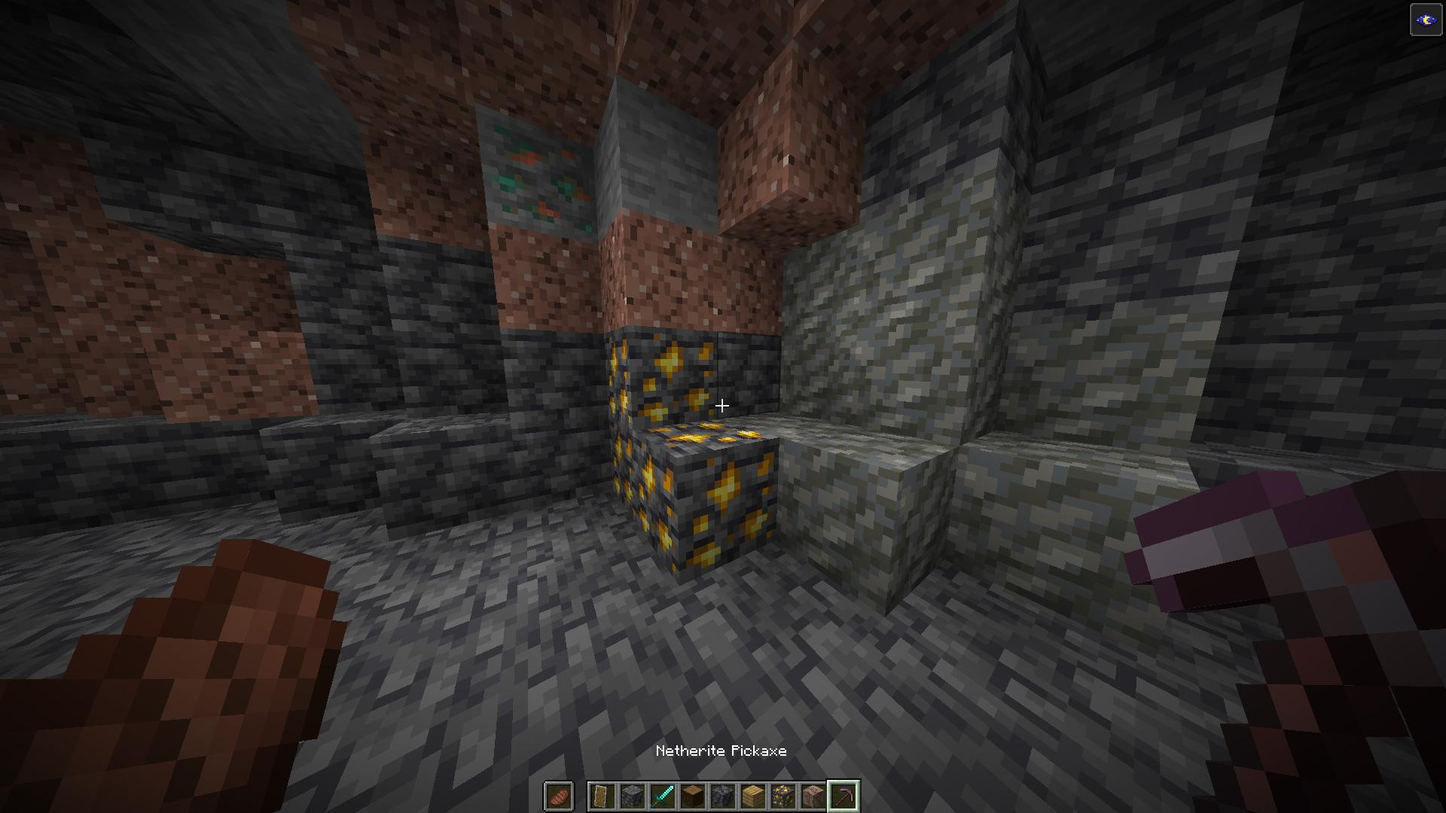gold ore: (685, 443, 780, 583), (634, 327, 721, 425), (636, 444, 680, 566), (644, 417, 764, 452), (602, 333, 635, 423), (610, 425, 637, 505)
